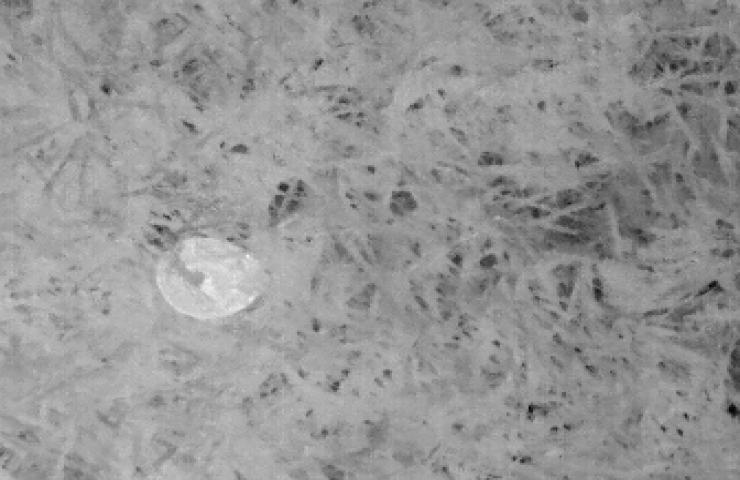landmines: (149, 231, 273, 321)
